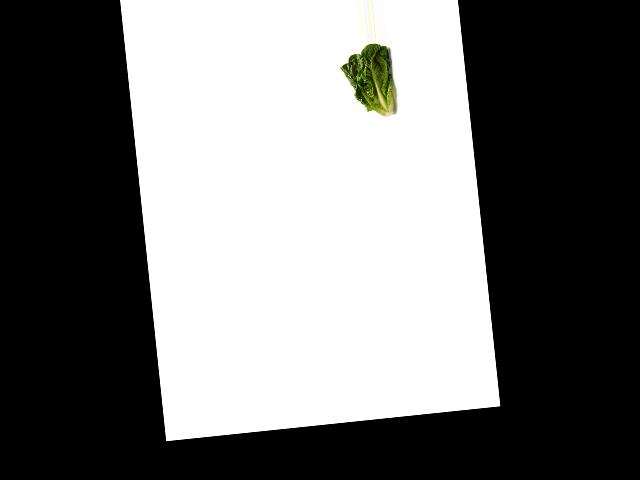lettuce: (338, 40, 407, 123)
